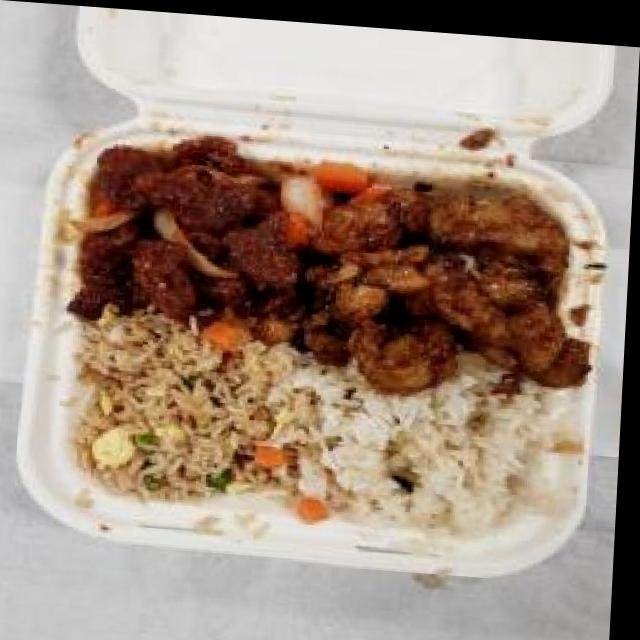Beijing Beef: (57, 124, 313, 337)
Fried Rice: (78, 329, 318, 507)
The Original Orange Chicken: (275, 147, 603, 408)
White Steamed Rice: (303, 364, 562, 529)
